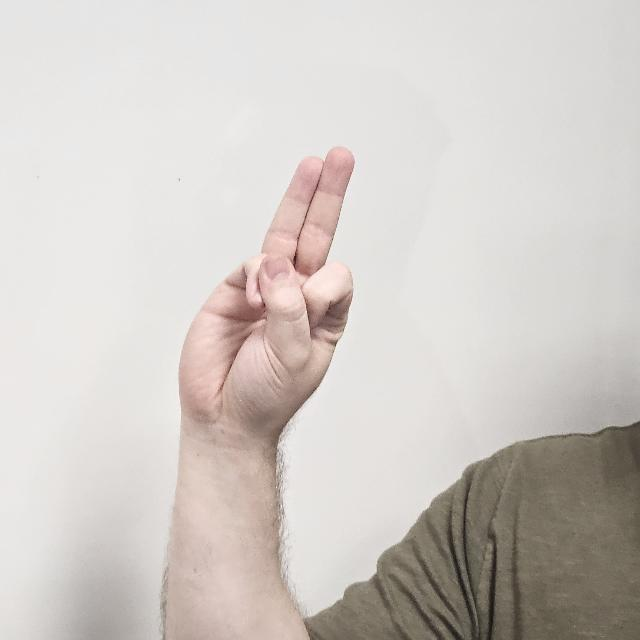R: (175, 145, 352, 521)
